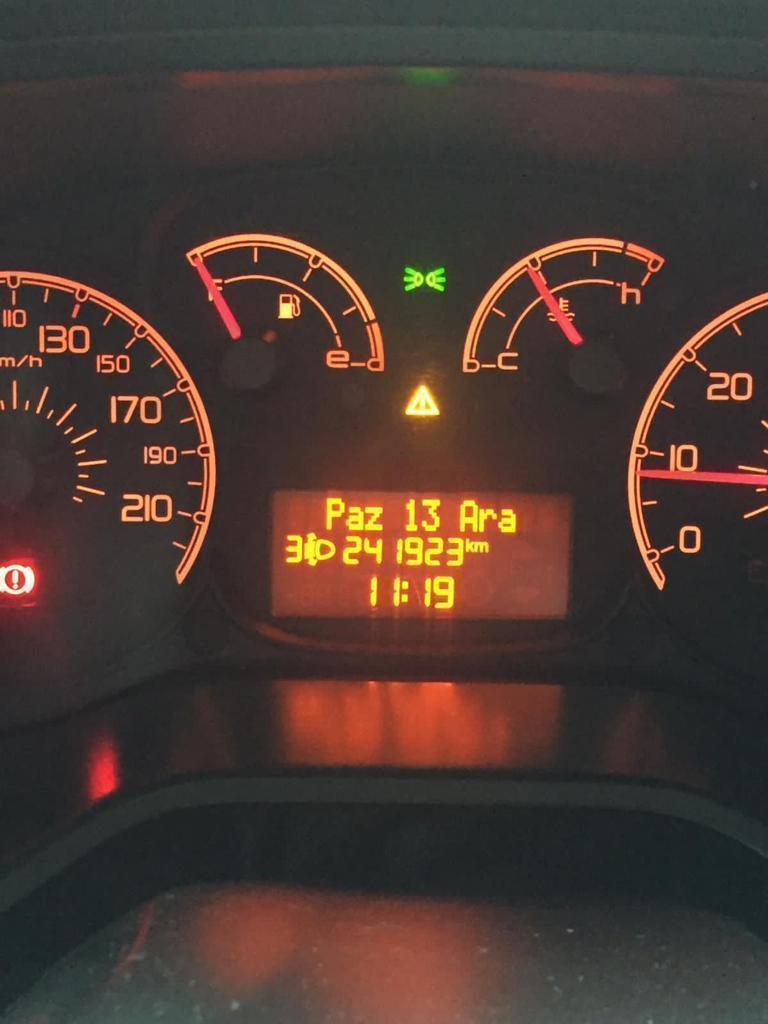1: (402, 497, 417, 532), (368, 573, 379, 612), (393, 534, 404, 567), (423, 574, 431, 612), (392, 573, 400, 609)
2: (423, 536, 443, 568), (341, 535, 361, 566)
3: (420, 497, 442, 534), (446, 534, 464, 570), (284, 532, 302, 564)
4: (362, 535, 383, 566)
9: (432, 574, 455, 610), (405, 534, 423, 568)
X: (324, 495, 344, 533), (498, 504, 519, 535), (460, 498, 479, 531), (365, 504, 385, 531), (345, 503, 364, 531), (478, 508, 495, 532), (401, 578, 411, 606), (474, 539, 489, 554), (465, 536, 473, 553)
odometer: (267, 484, 577, 625)
